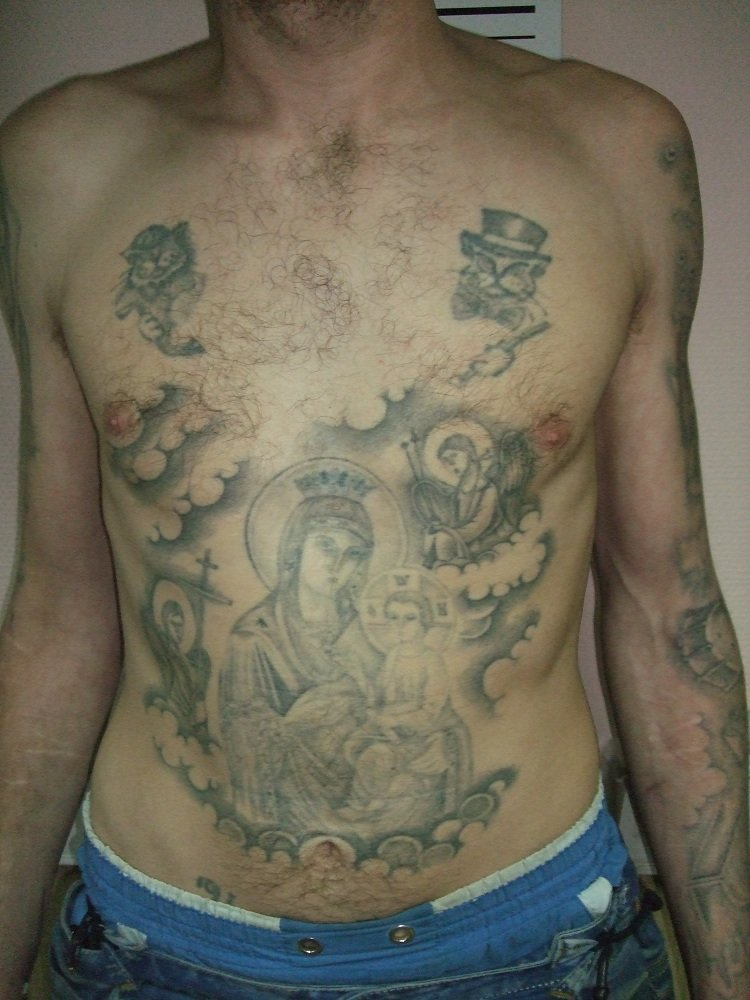tatu2_bogorodica: (103, 387, 567, 856)
tatu8_kot: (439, 190, 558, 395), (104, 215, 217, 365)
